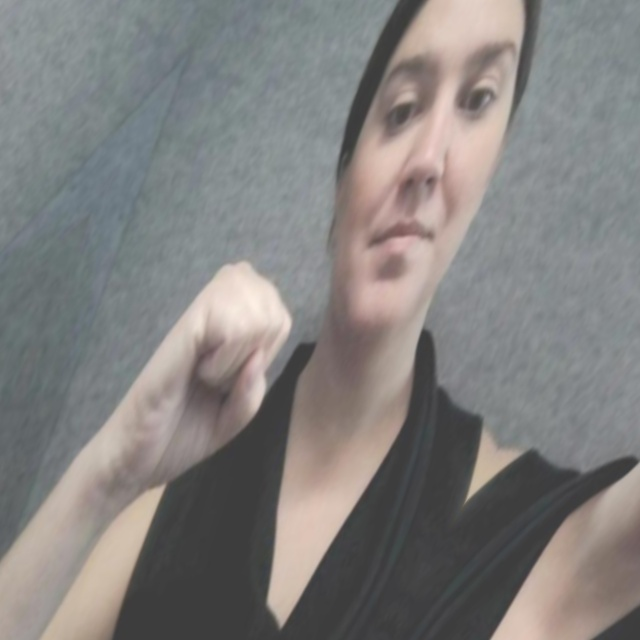Rock: (0, 0, 80, 420)
